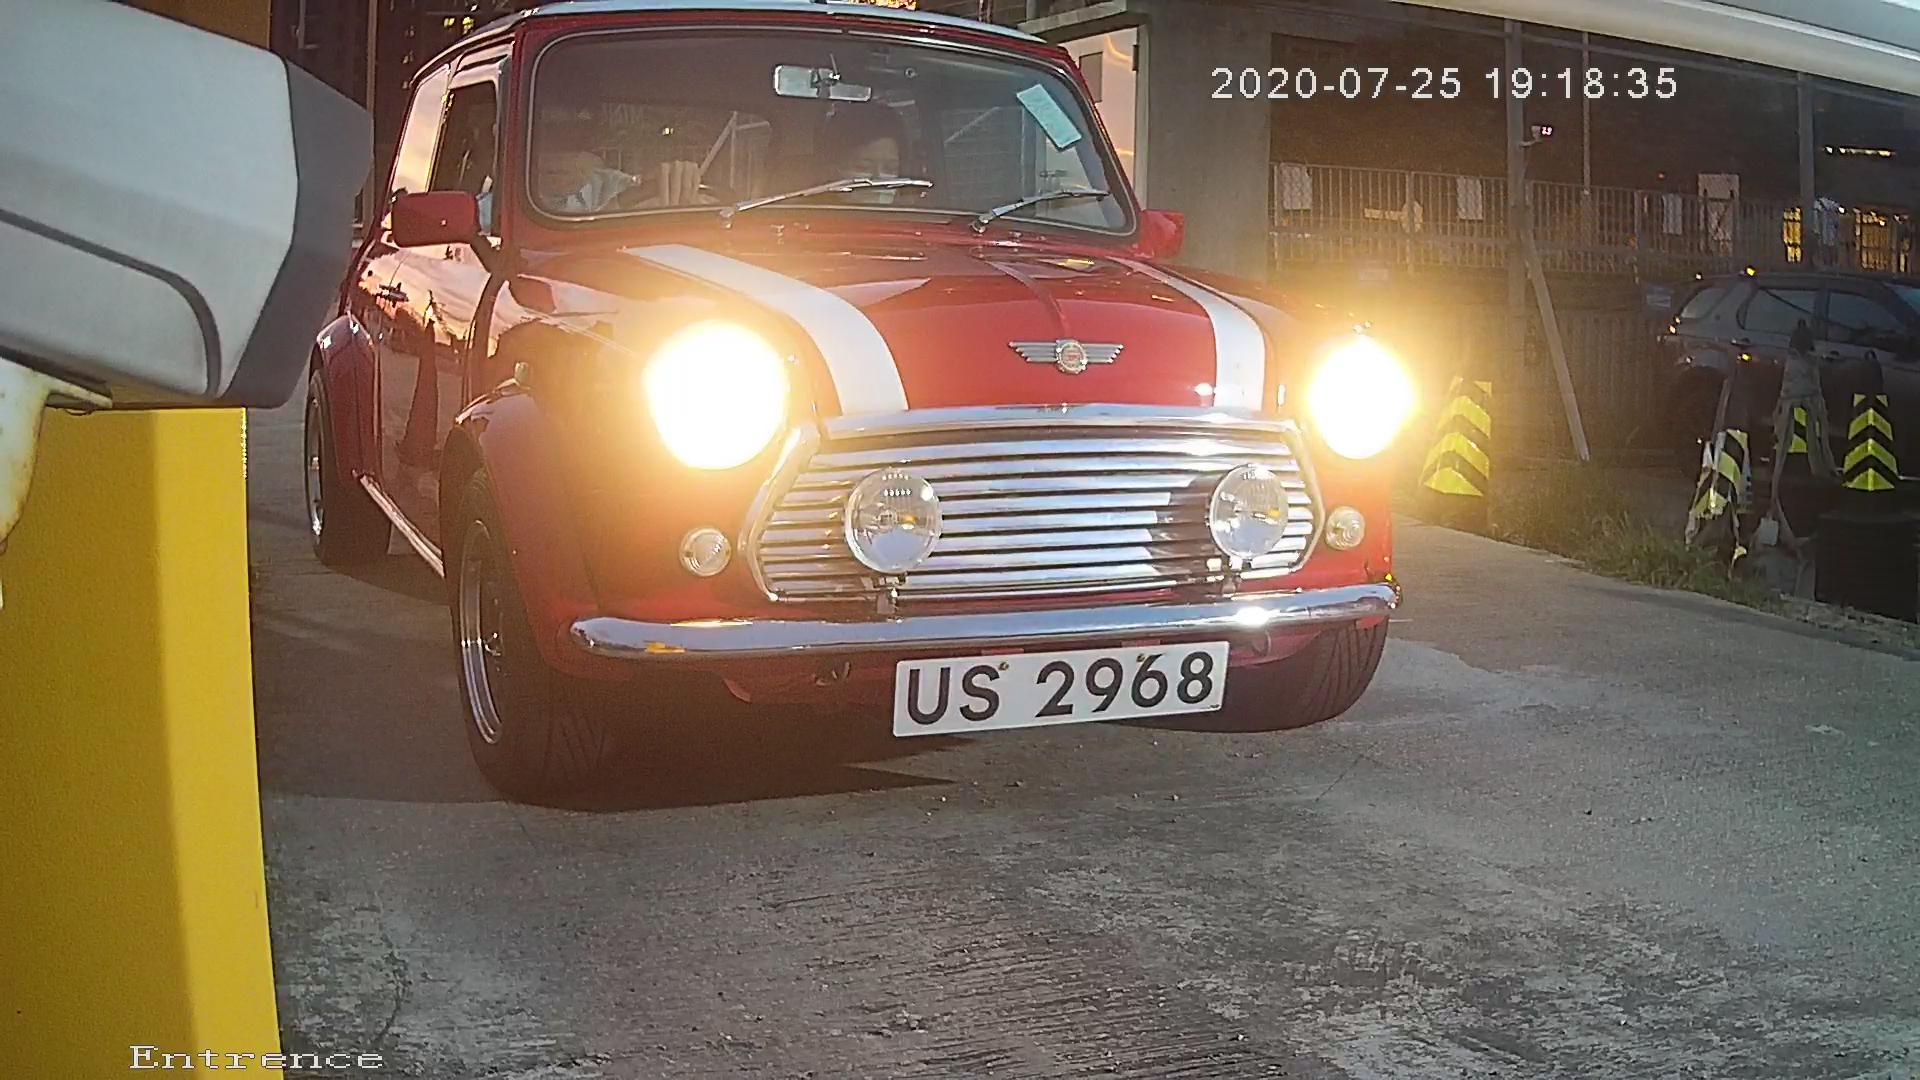License Plate: (862, 623, 1246, 755)
